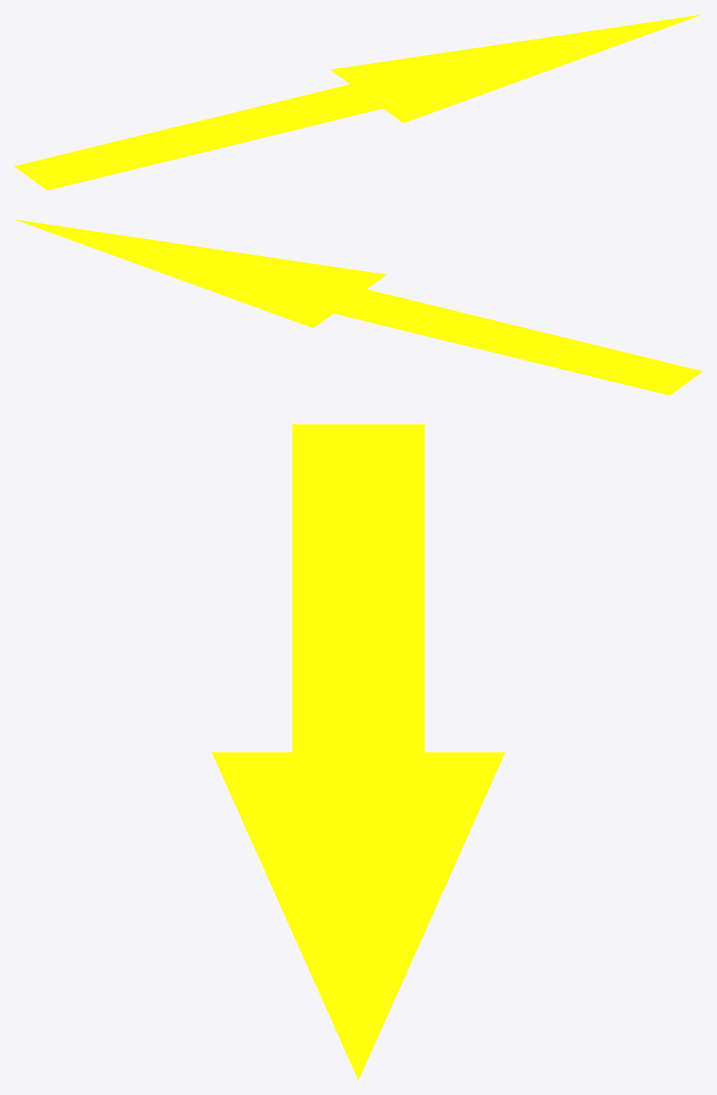
Rendered from arrow_straight.glb.
The picture shows the model from 3 angles, top to bottom: view 1: azimuth 30°, elevation 25°; view 2: azimuth 150°, elevation 25°; view 3: azimuth 270°, elevation 25°; orthographic projection. The views are drawn at different scales.
Visible parts, largest first — view 1: 平面.029; view 2: 平面.029; view 3: 平面.029.
Boxes of the visible parts, x1,y1,x2,y2 form: 平面.029: [14, 14, 701, 190]; 平面.029: [15, 219, 702, 395]; 平面.029: [212, 424, 504, 1080].
Bounding box in the file's own units: 5.78 × 0 × 1.09.
1 material, 1 textured.
